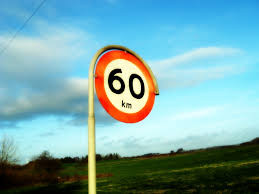Speed_limit_60km: (93, 48, 159, 124)
